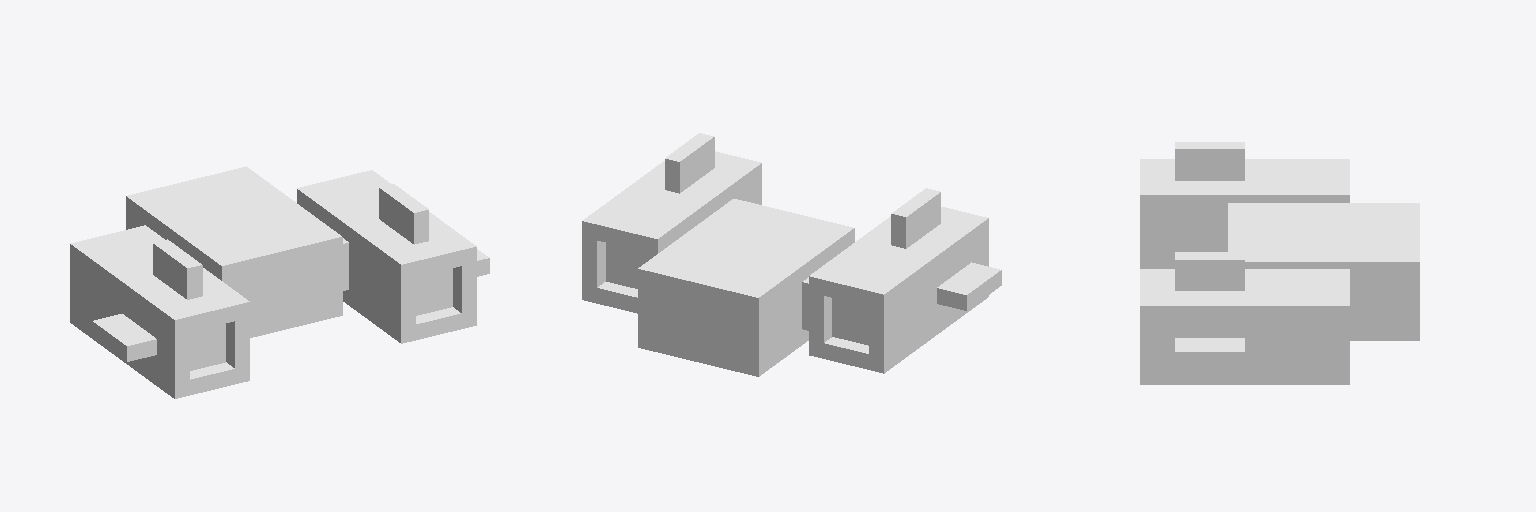
File: Enemy1.2.obj
3 renders of one model, left to right at view 1: azimuth 30°, elevation 25°; view 2: azimuth 150°, elevation 25°; view 3: azimuth 270°, elevation 25°, orthographic.
Bounding box in the file's own units: 24 × 7 × 16.